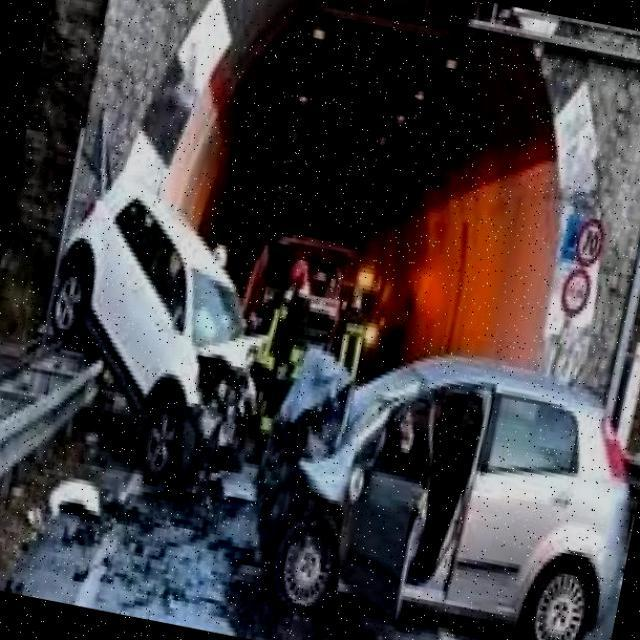accident: (85, 247, 552, 635)
